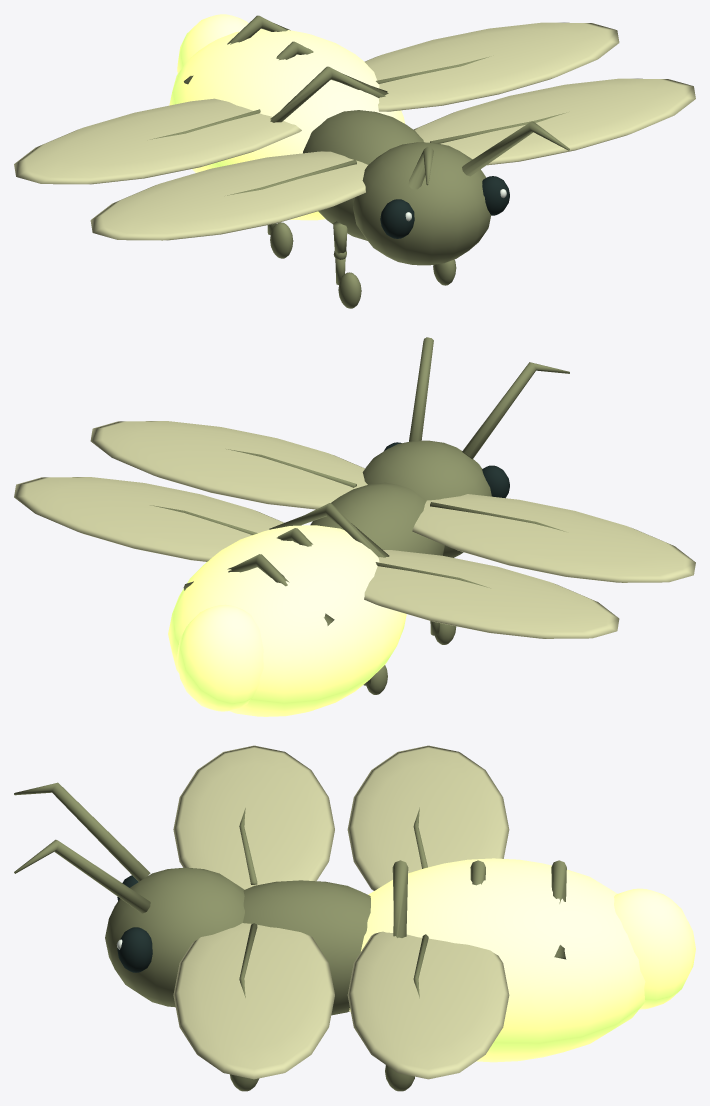
Rendered from glowbug.glb.
The picture shows the model from 3 angles, top to bottom: view 1: azimuth 30°, elevation 25°; view 2: azimuth 150°, elevation 25°; view 3: azimuth 270°, elevation 25°; orthographic projection. The views are drawn at different scales.
Visible parts, largest first — view 1: FlightMembrane.001, FlightMembrane, LanternAbdomen, FlightMembrane.002, FlightMembrane.003, InsectHead, InsectThorax, LanternTip, AbdomenBand.002, Feeler.001, SpeciesEye.006, SpeciesEye.007 (+4 smaller); view 2: LanternAbdomen, FlightMembrane.001, FlightMembrane.003, FlightMembrane, FlightMembrane.002, LanternTip, InsectHead, InsectThorax, Feeler, Feeler.001, AbdomenBand.002, AbdomenBand (+1 smaller); view 3: LanternAbdomen, FlightMembrane.003, FlightMembrane.002, FlightMembrane.001, FlightMembrane, InsectHead, InsectThorax, LanternTip, Feeler, Feeler.001, SpeciesEye.007, AbdomenBand.002 (+1 smaller).
Boxes of the visible parts, bbox=[...] form: FlightMembrane.001: bbox=[90, 151, 367, 240]; FlightMembrane: bbox=[14, 98, 301, 184]; LanternAbdomen: bbox=[169, 29, 404, 220]; FlightMembrane.002: bbox=[365, 22, 619, 111]; FlightMembrane.003: bbox=[413, 78, 695, 165]; InsectHead: bbox=[353, 142, 490, 265]; InsectThorax: bbox=[303, 110, 423, 240]; LanternTip: bbox=[177, 14, 248, 73]; AbdomenBand.002: bbox=[270, 66, 388, 122]; Feeler.001: bbox=[462, 121, 569, 176]; SpeciesEye.006: bbox=[380, 199, 414, 238]; SpeciesEye.007: bbox=[482, 176, 509, 215]; LanternAbdomen: bbox=[168, 525, 406, 716]; FlightMembrane.001: bbox=[412, 494, 695, 582]; FlightMembrane.003: bbox=[90, 421, 367, 509]; FlightMembrane: bbox=[364, 549, 619, 638]; FlightMembrane.002: bbox=[14, 477, 284, 561]; LanternTip: bbox=[177, 604, 263, 711]; InsectHead: bbox=[362, 440, 491, 557]; InsectThorax: bbox=[310, 482, 444, 555]; Feeler: bbox=[462, 362, 569, 459]; Feeler.001: bbox=[409, 337, 433, 441]; AbdomenBand.002: bbox=[269, 503, 389, 557]; AbdomenBand: bbox=[183, 554, 334, 625]; LanternAbdomen: bbox=[349, 858, 645, 1062]; FlightMembrane.003: bbox=[173, 923, 334, 1079]; FlightMembrane.002: bbox=[347, 931, 509, 1079]; FlightMembrane.001: bbox=[173, 745, 334, 889]; FlightMembrane: bbox=[347, 745, 509, 890]; InsectHead: bbox=[105, 867, 244, 1007]; InsectThorax: bbox=[243, 880, 370, 1015]; LanternTip: bbox=[614, 888, 695, 1009]; Feeler: bbox=[14, 782, 150, 881]; Feeler.001: bbox=[14, 839, 150, 913]; SpeciesEye.007: bbox=[117, 927, 152, 972]; AbdomenBand.002: bbox=[392, 860, 408, 937].
Size of the model in its own units: 2.54 by 0.8979 by 2.19.
